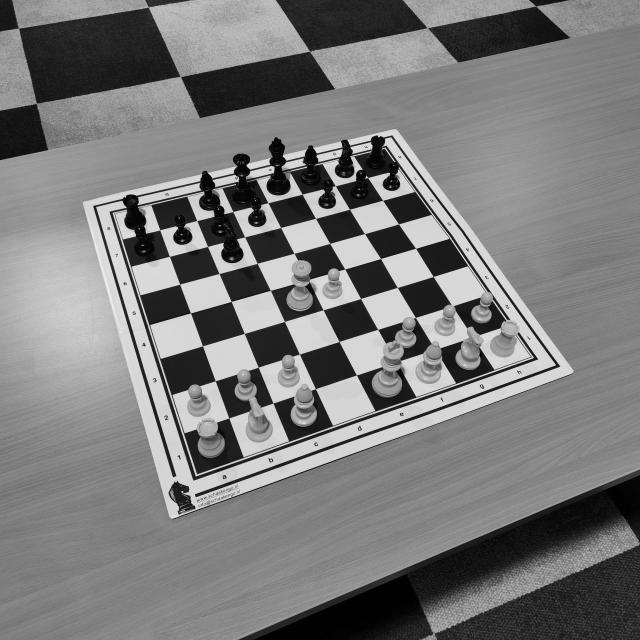chessboard: (110, 146, 537, 478)
